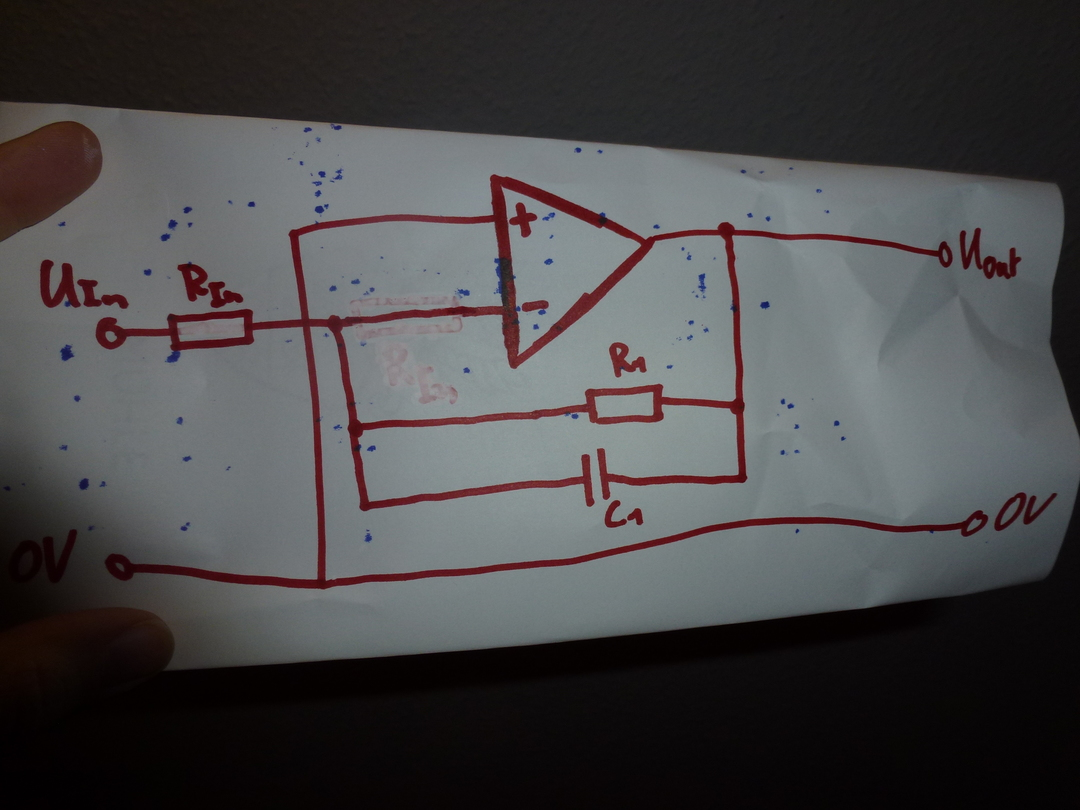capacitor.unpolarized: (575, 445, 618, 507)
crossover: (297, 313, 316, 333)
junction: (714, 220, 739, 242), (326, 313, 347, 334), (346, 418, 365, 440), (729, 395, 747, 418), (313, 574, 331, 593), (356, 496, 374, 514), (734, 471, 750, 487), (286, 226, 303, 240)
operational_amplifier: (488, 172, 655, 369)
resistor: (165, 307, 257, 352), (583, 382, 667, 427)
terminal: (94, 314, 129, 351), (102, 550, 139, 584), (959, 506, 989, 540), (936, 239, 955, 271)
text: (38, 258, 130, 313), (10, 526, 80, 591), (957, 226, 1024, 284), (175, 262, 246, 309), (992, 491, 1059, 532), (608, 340, 649, 379), (603, 498, 645, 531)
